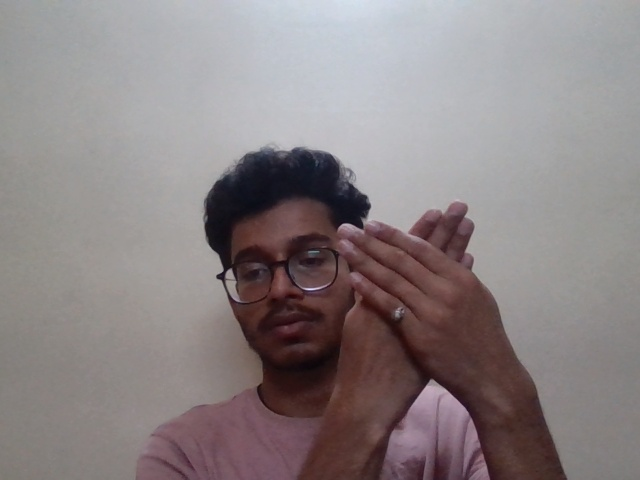what: (311, 191, 510, 362)
